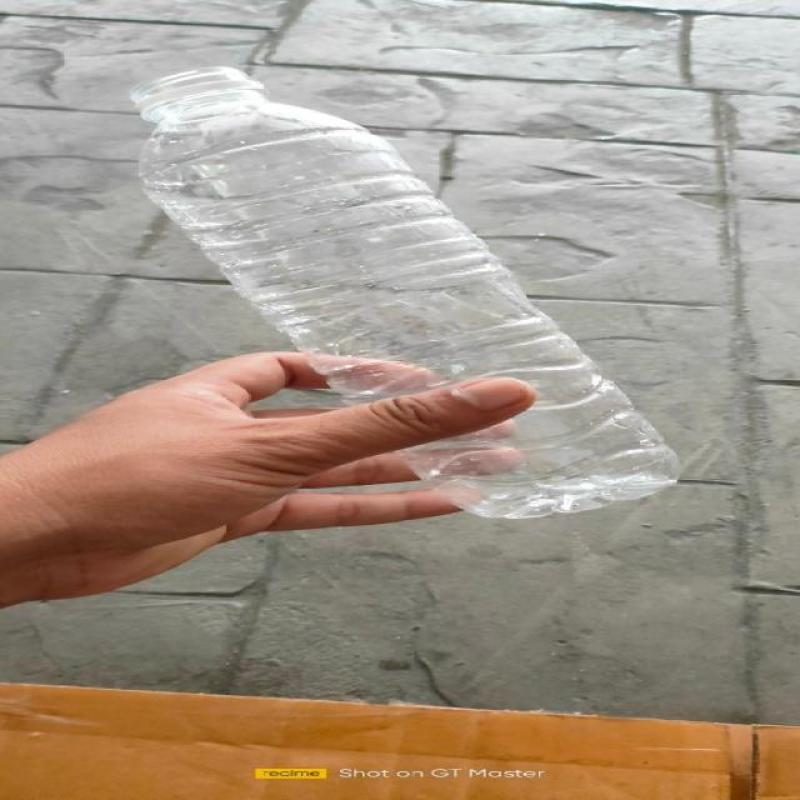botella: (135, 67, 685, 518)
